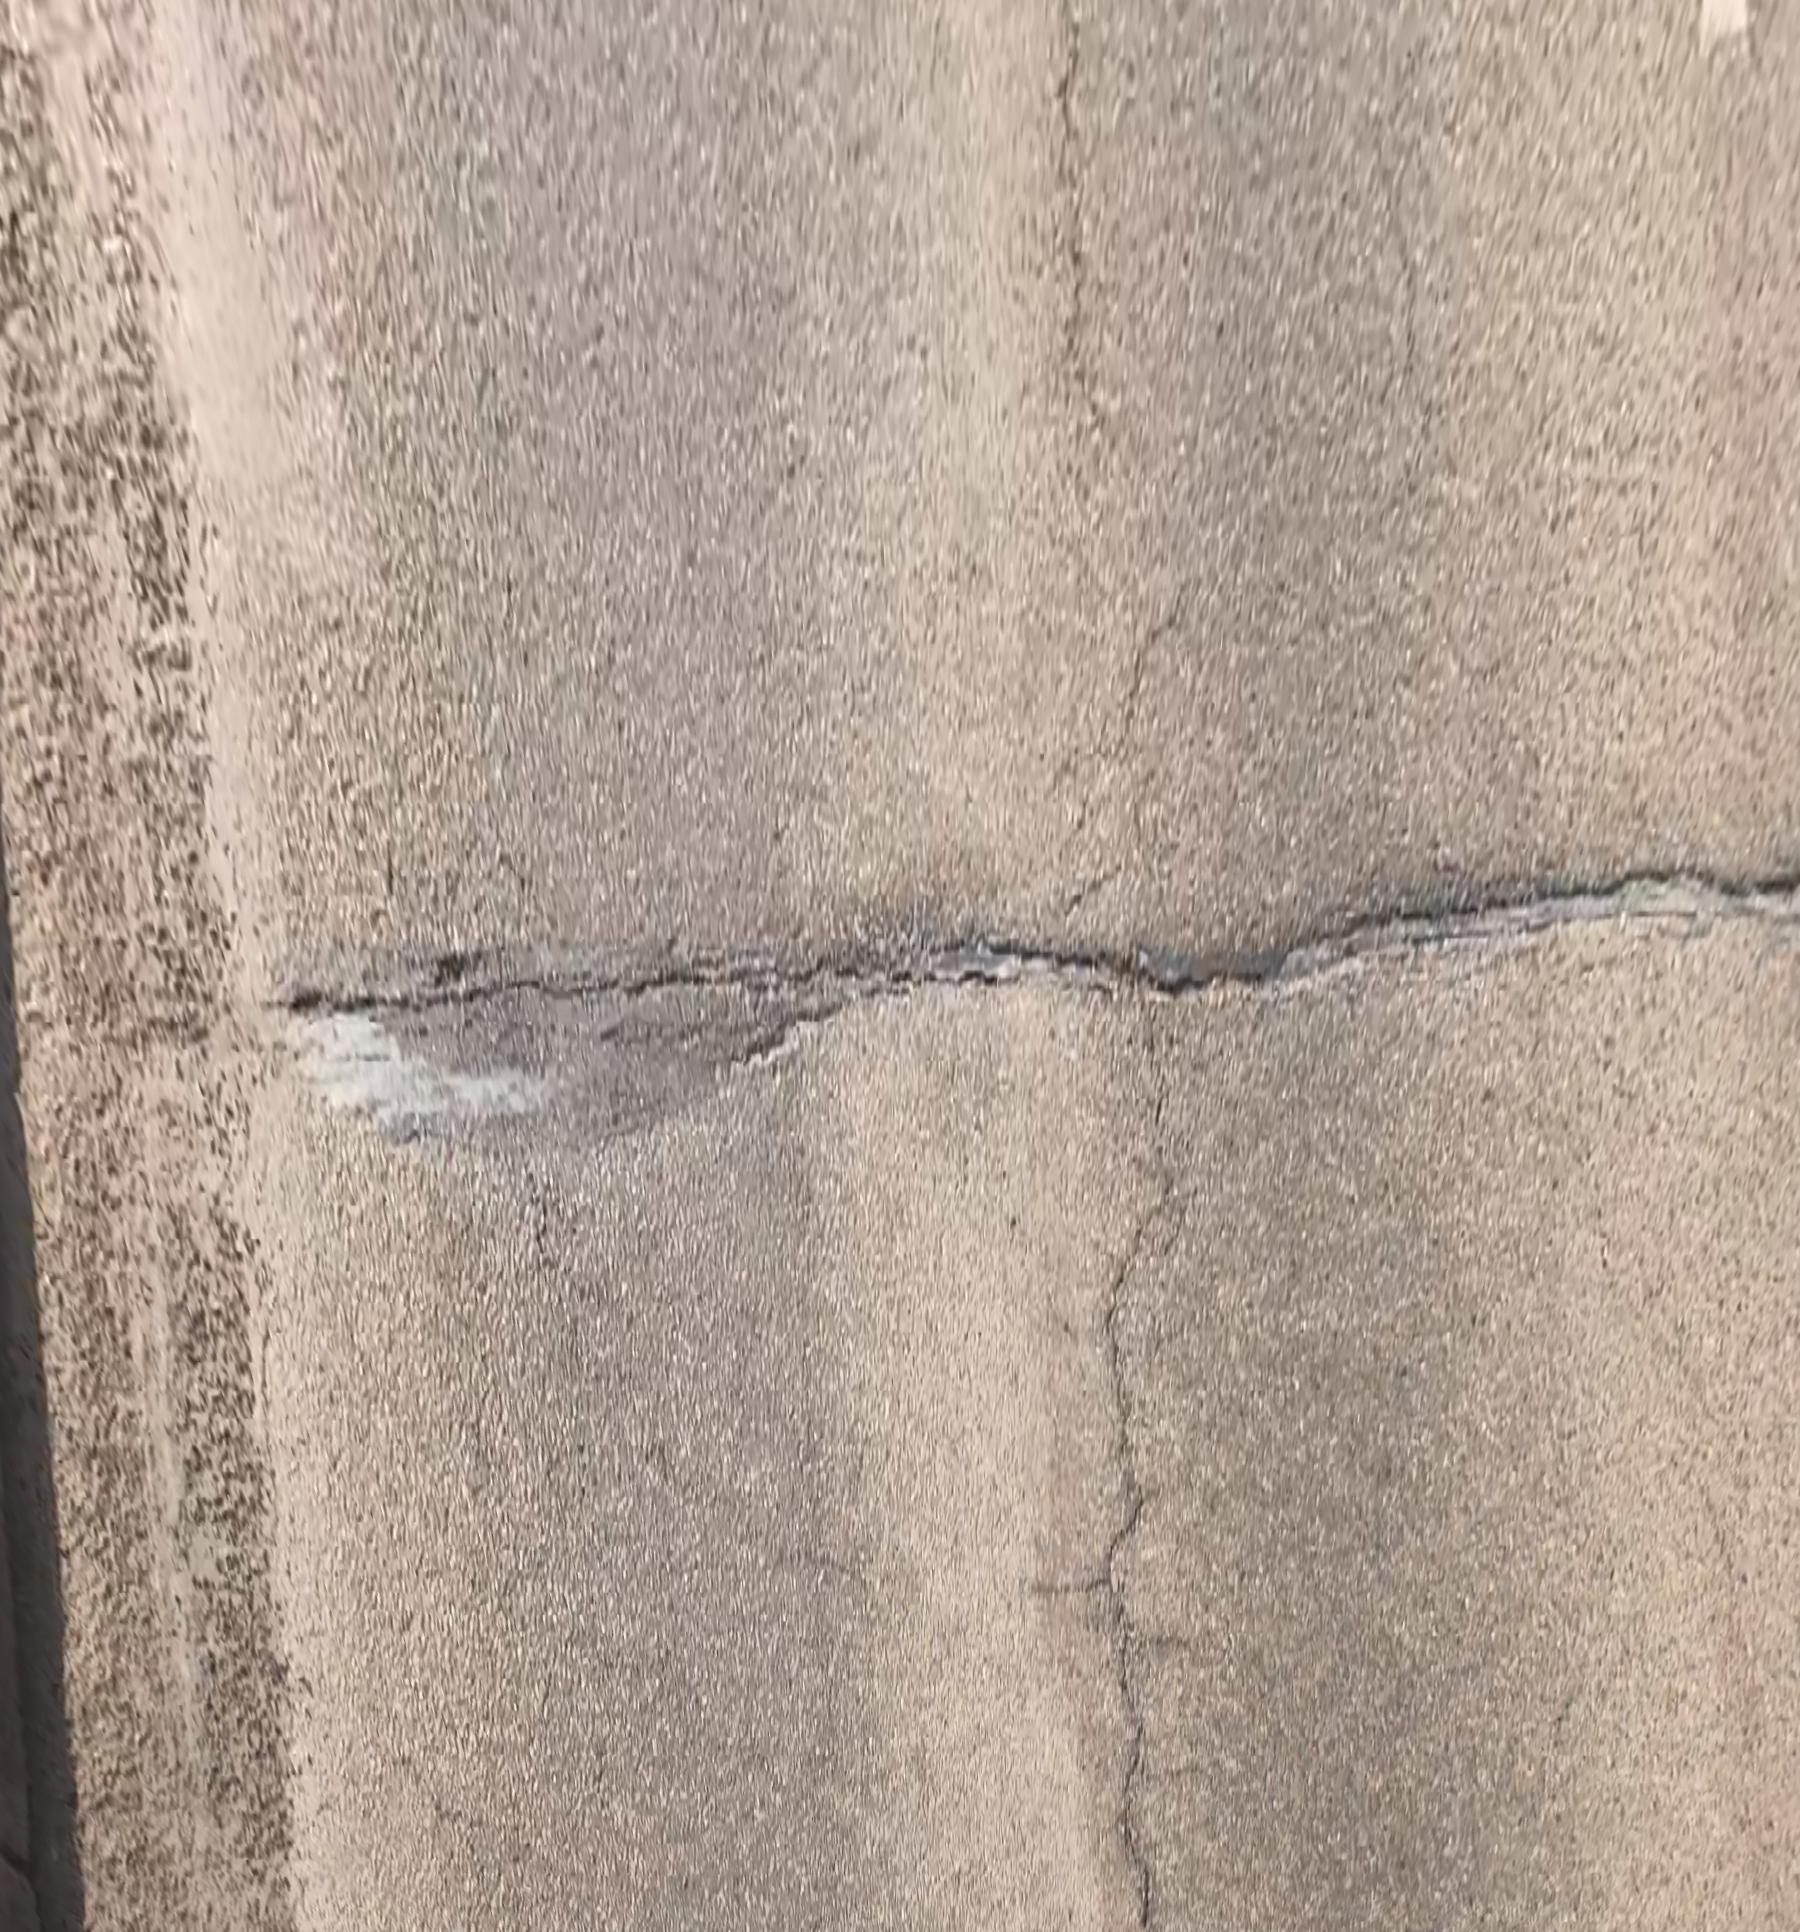pothole_patch_poor: (281, 942, 1057, 1145)
